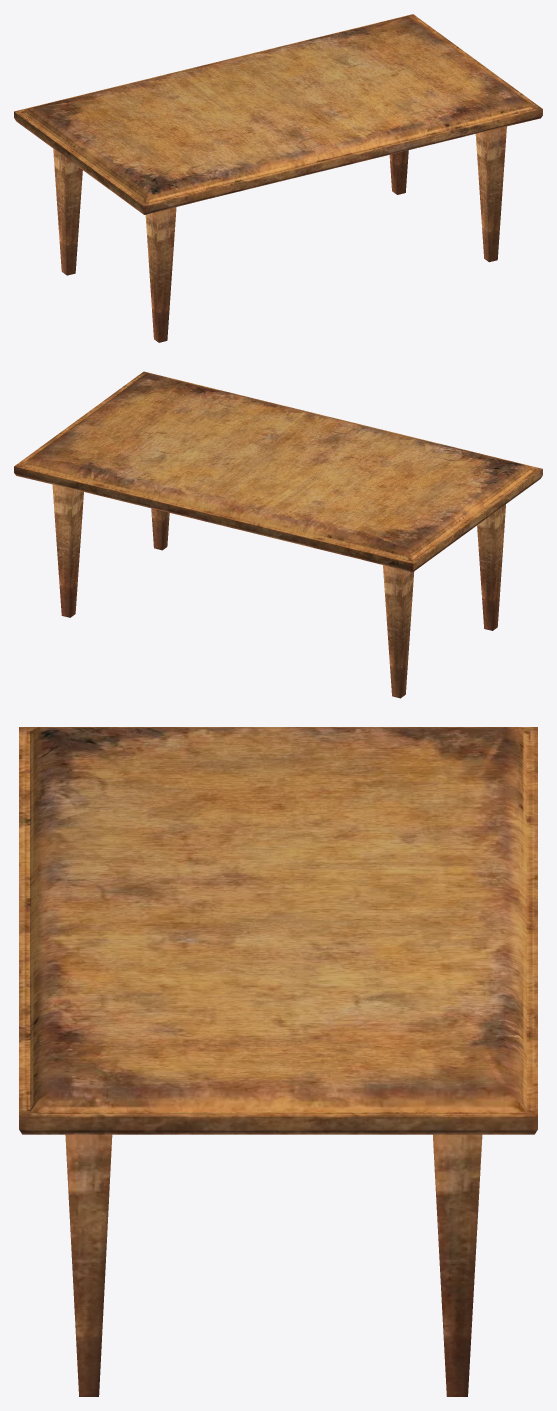
Rendered from props.glb.
3 renders of one model, top to bottom at view 1: azimuth 30°, elevation 25°; view 2: azimuth 150°, elevation 25°; view 3: azimuth 270°, elevation 25°, orthographic. The views are drawn at different scales.
Parts seen in each view (by area): view 1: dining_table; view 2: dining_table; view 3: dining_table.
Part boxes in pixels (bbox=[...]): dining_table: bbox=[14, 14, 542, 342]; dining_table: bbox=[14, 371, 542, 698]; dining_table: bbox=[19, 727, 537, 1396].
Bounding box in the file's own units: 2.05 × 0.7907 × 1.15.
1 material, 1 textured.
